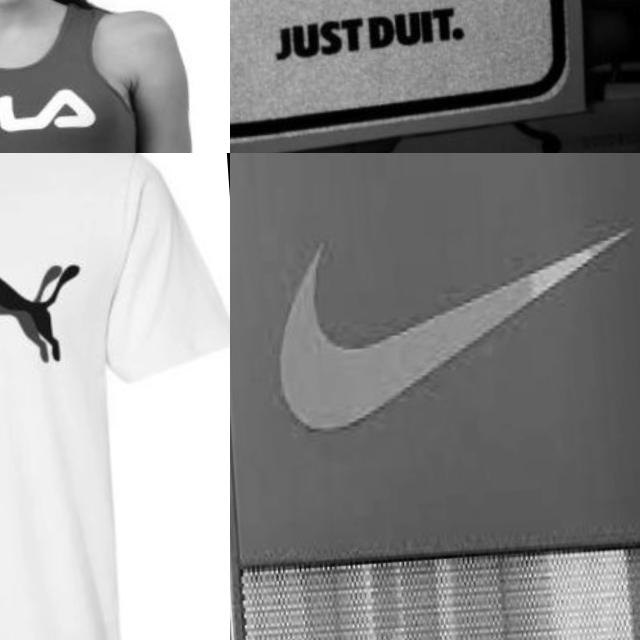FILA_original: (0, 74, 120, 153)
NIKE_fake: (230, 0, 557, 85)
NIKE_original: (256, 190, 640, 450)
PUMA_fake: (0, 236, 94, 397)
